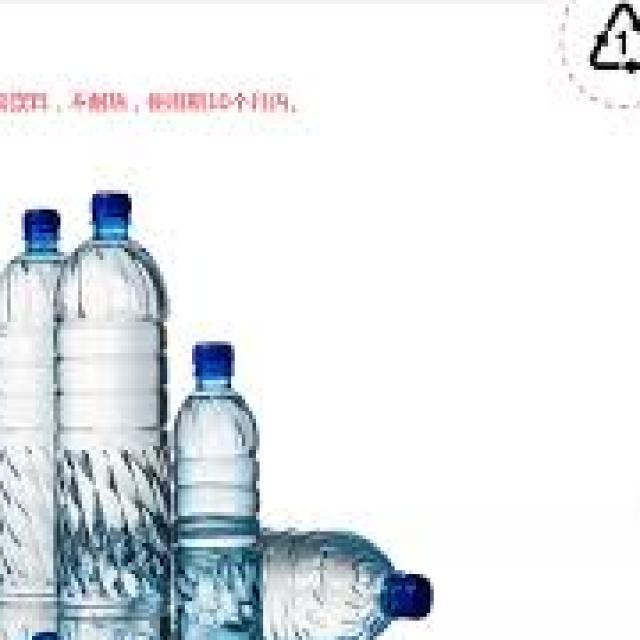organic: (75, 186, 173, 633), (2, 198, 101, 629), (161, 331, 271, 636), (257, 514, 447, 637)
